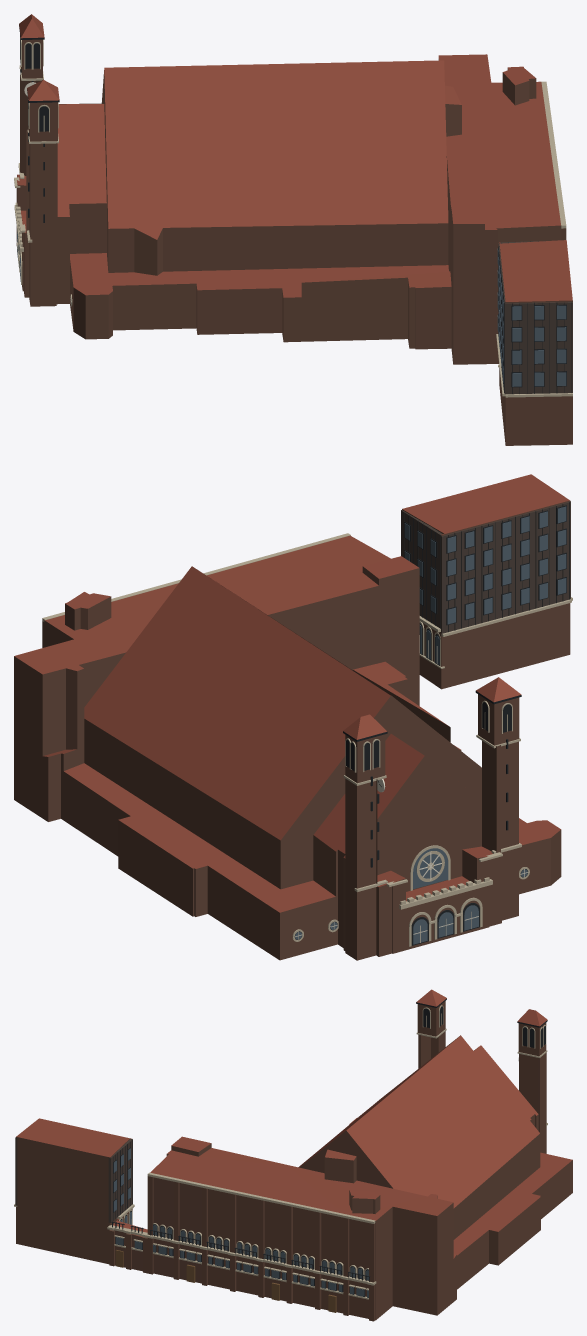
Rendered from chassekerk.glb.
3 views of the same model, one above another, from view 1: azimuth 30°, elevation 25°; view 2: azimuth 150°, elevation 25°; view 3: azimuth 270°, elevation 25° (orthographic). The views are drawn at different scales.
Visible parts, largest first — view 1: chassekerk; view 2: chassekerk; view 3: chassekerk.
Boxes of the visible parts, left/top/right/bottom form: chassekerk: left=14, top=14, right=572, bottom=445; chassekerk: left=14, top=474, right=572, bottom=960; chassekerk: left=14, top=989, right=572, bottom=1321.
Size of the model in its own units: 54.15 by 23.55 by 72.73.
